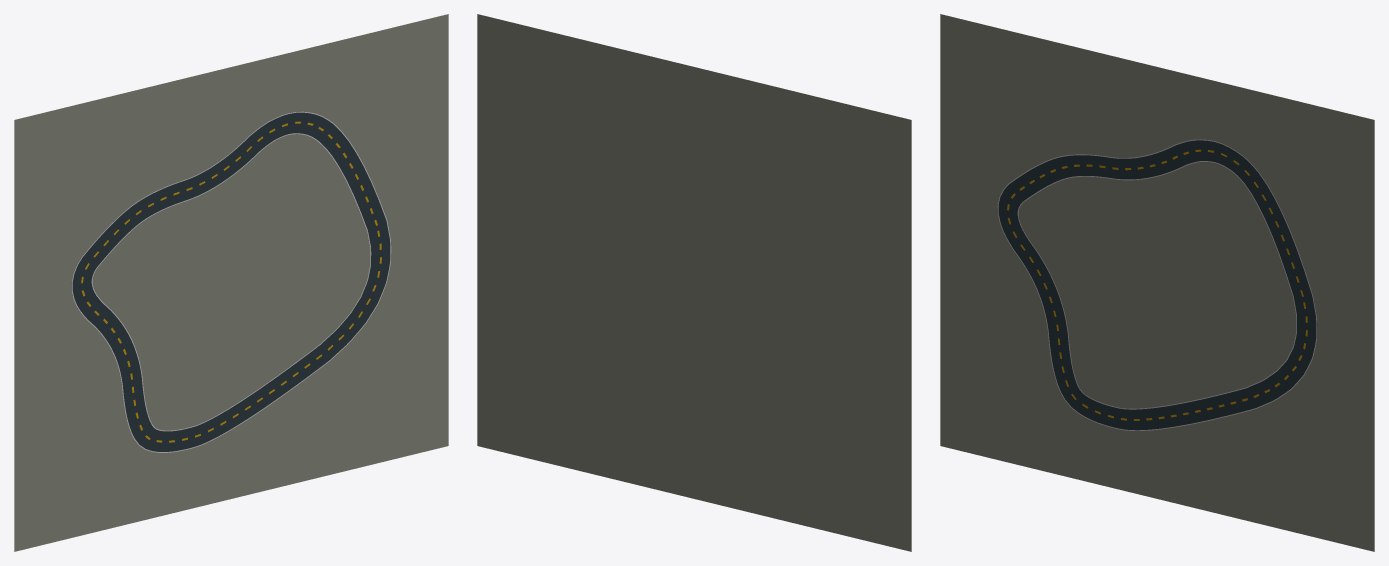
File: track.obj
The picture shows the model from 3 angles, left to right: view 1: azimuth 30°, elevation 25°; view 2: azimuth 150°, elevation 25°; view 3: azimuth 330°, elevation 25°; orthographic projection.
Size of the model in its own units: 21.67 by 20.59 by 0.0025.
4 materials, 4 textured.
